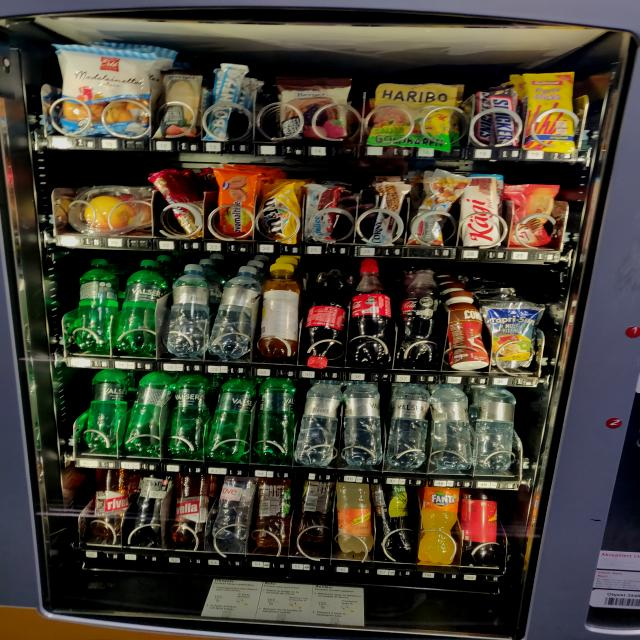berger_-____: (159, 68, 203, 142)
berger_vogelnestli____: (275, 76, 355, 144)
bounty_____: (204, 62, 254, 139)
branche_maxi____: (152, 172, 202, 238)
caprisun_multivitamin__20__4000177605004: (486, 303, 543, 369)
coke__flasche_50__54491472: (296, 266, 348, 368), (348, 262, 397, 367)
coke_zero_flasche_50__5449000131836: (396, 268, 444, 360), (133, 473, 176, 544)
comella_schokodrink_flasche_50__7613100037253: (443, 288, 490, 369)
corny_schoko____: (369, 182, 414, 244)
erle____: (53, 48, 158, 140)
evian___50__3068320353500: (212, 478, 255, 542)
fanta___50__40822938: (416, 488, 461, 565)
fuse_lemon__50__5449000235947: (371, 481, 413, 557)
haribo_goldbaerensauer____: (369, 84, 464, 148)
kagi___50__7610046000259: (456, 177, 506, 252)
kinder_delice____: (304, 185, 340, 241)
lorenz_studentenfutter____: (415, 177, 460, 247)
malburner_partysticks__40__7610200279682: (521, 74, 581, 154)
mezzomix___50__54490840: (455, 490, 501, 566)
mnms_gelb__45__40111445: (258, 180, 308, 243)
momo_icetea__50__: (256, 264, 302, 362)
ovomaltine_kekse____: (220, 171, 262, 237)
rivella_rot__50__7610097111072: (88, 469, 134, 541), (173, 475, 212, 546)
schweppes_citrus__50__: (336, 481, 374, 554)
snickers___50__5000159461122: (485, 92, 519, 154)
valser_classic__50__76404160: (114, 261, 163, 355), (72, 262, 120, 356), (212, 376, 260, 458), (170, 376, 218, 458), (80, 370, 130, 448), (127, 373, 173, 454), (256, 378, 300, 456)
valser_still__50__7610335002575: (166, 265, 218, 357), (210, 265, 260, 356), (472, 388, 520, 469), (429, 389, 477, 467), (297, 381, 343, 462), (388, 384, 430, 466), (340, 383, 382, 465)
volvic_teeminze__50__3057640335648: (250, 477, 290, 550), (297, 482, 333, 542)
zweifel_saltedpeanuts____: (507, 185, 559, 247)
